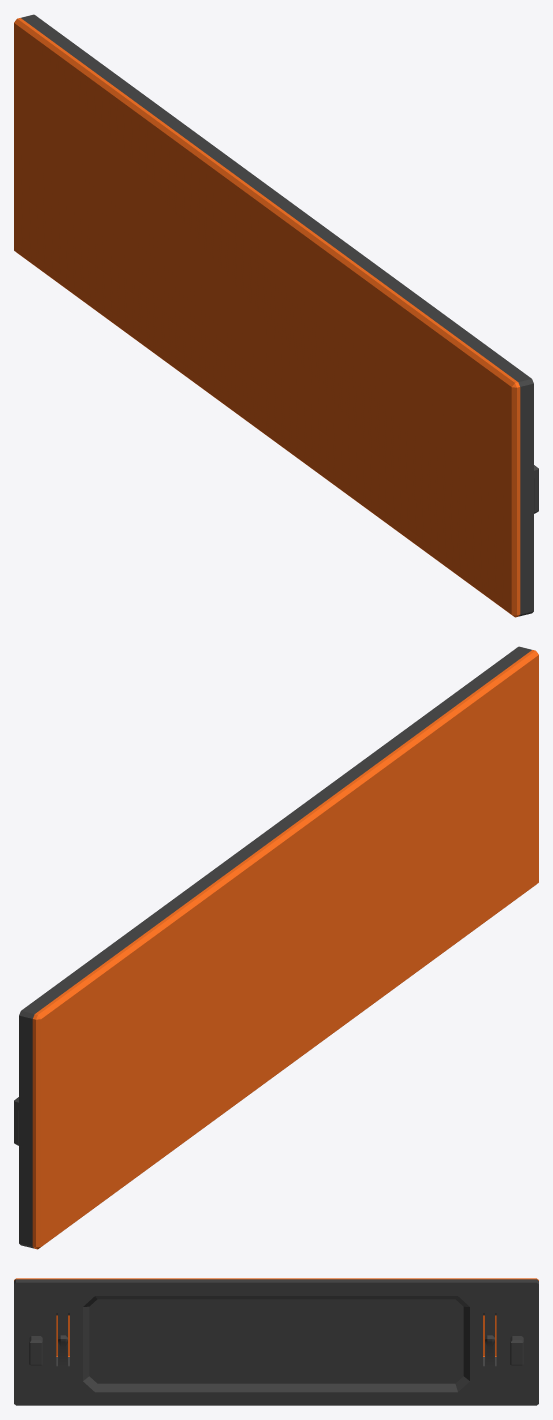
File: SideCover_115-05H.lib.glb
3 renders of one model, top to bottom at view 1: azimuth 30°, elevation 25°; view 2: azimuth 150°, elevation 25°; view 3: azimuth 270°, elevation 25°, orthographic. The views are drawn at different scales.
Parts seen in each view (by area): view 1: SideCover_115-05H; view 2: SideCover_115-05H; view 3: SideCover_115-05H.
Boxes of the visible parts, x1=… form: SideCover_115-05H: x1=14, y1=14, x2=538, y2=617; SideCover_115-05H: x1=14, y1=646, x2=538, y2=1249; SideCover_115-05H: x1=14, y1=1278, x2=538, y2=1405.
Size of the model in its own units: 5.05 by 27.6 by 107.
